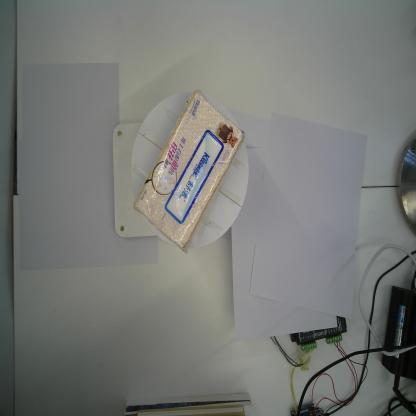Tissue: (131, 87, 246, 256)
